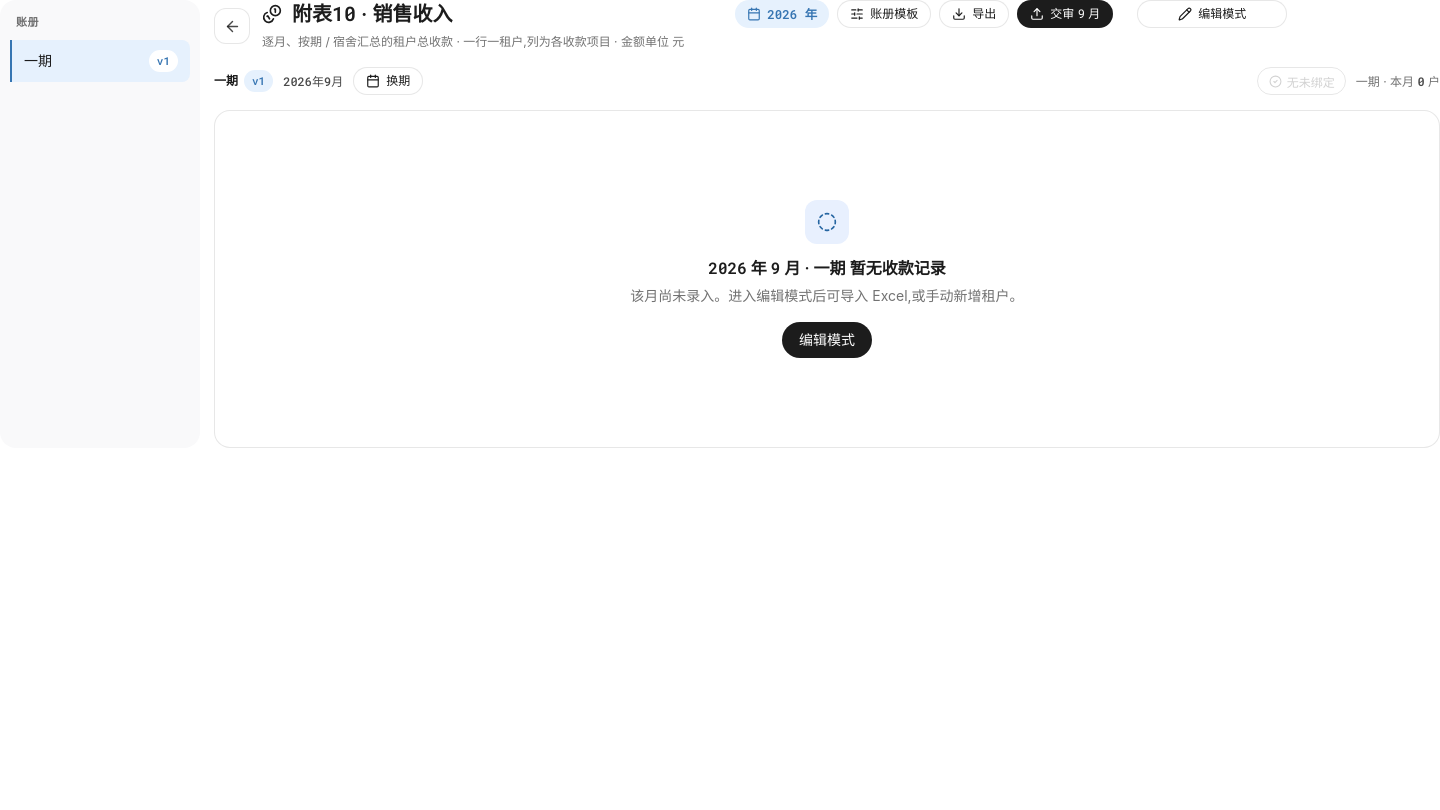
Test: 附表10 · 逐段导入断了 › ❗第 2 段断了:前 1 段已写进库,本页先刷新一次,错误照样抛给弹窗
The image size is (1440, 810).
Click the button "编辑模式" in the row of "附表10 · 销售收入": (1212, 14) 1137,0 -> 1287,28
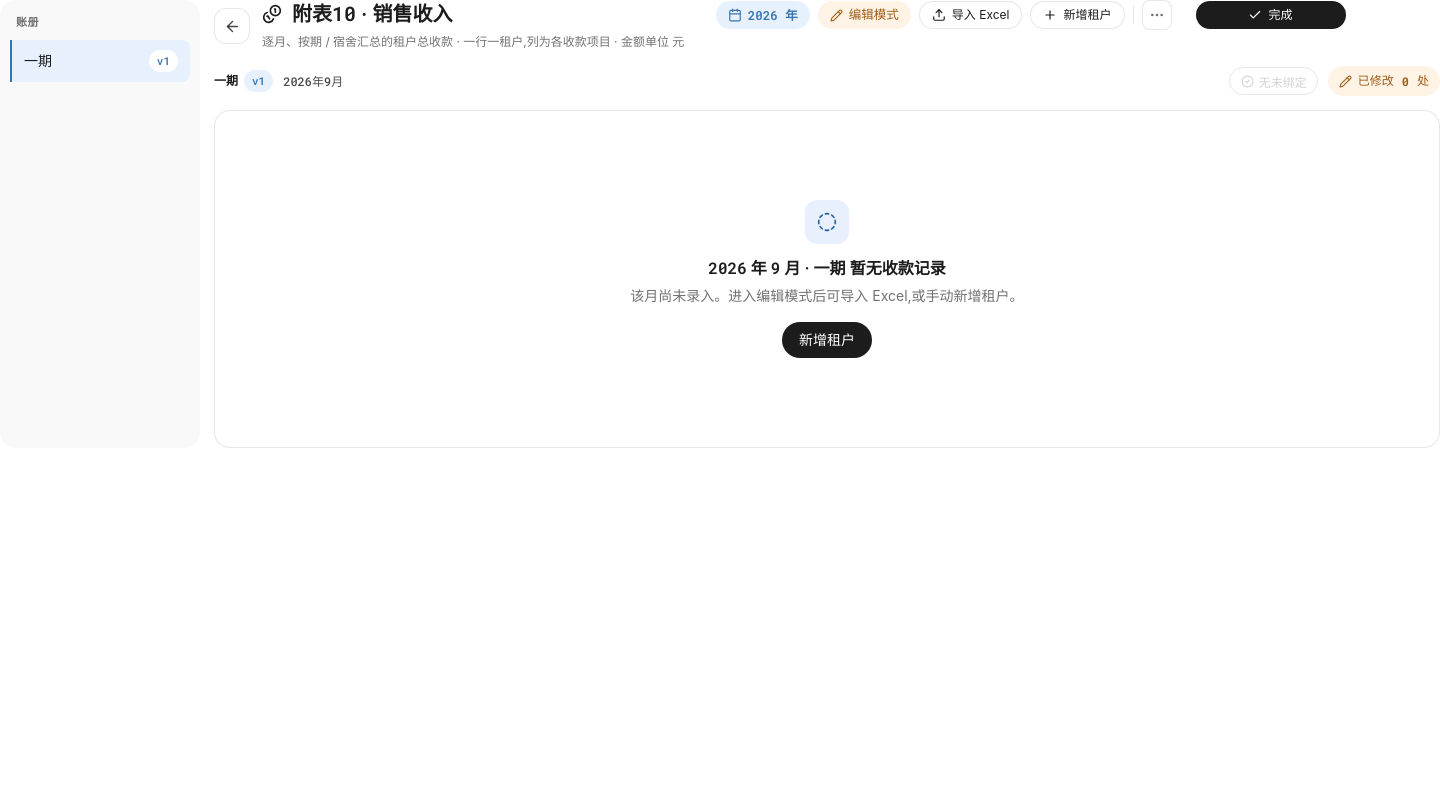
Click the button "导入 Excel": (971, 15) 919,1 -> 1022,29
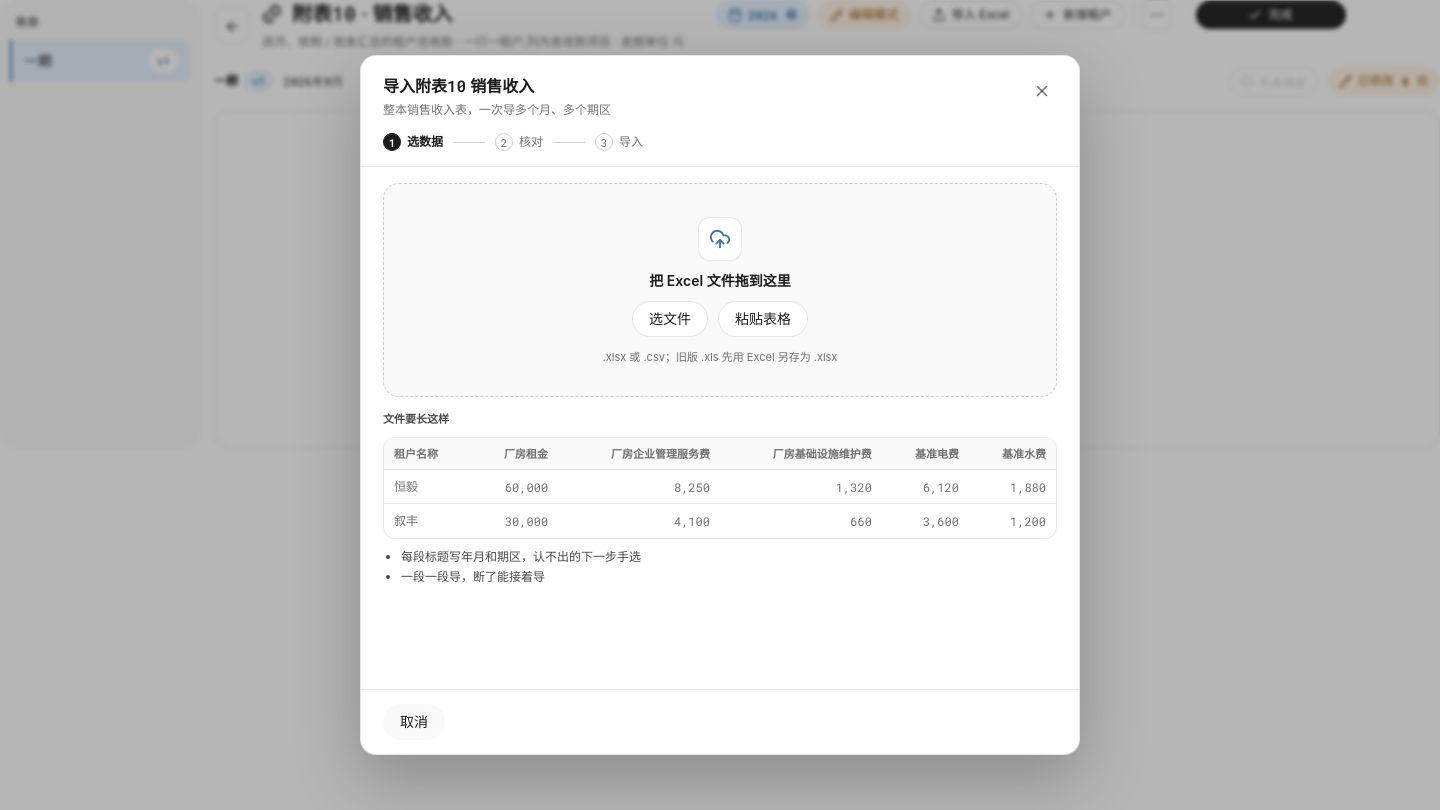
Result: the element with class "fpimp-scrim" is shown
